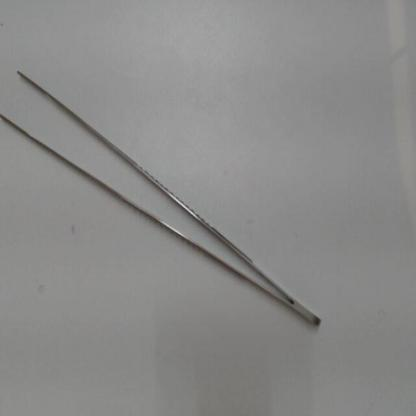DeBakey Dissector: (0, 49, 339, 347)
